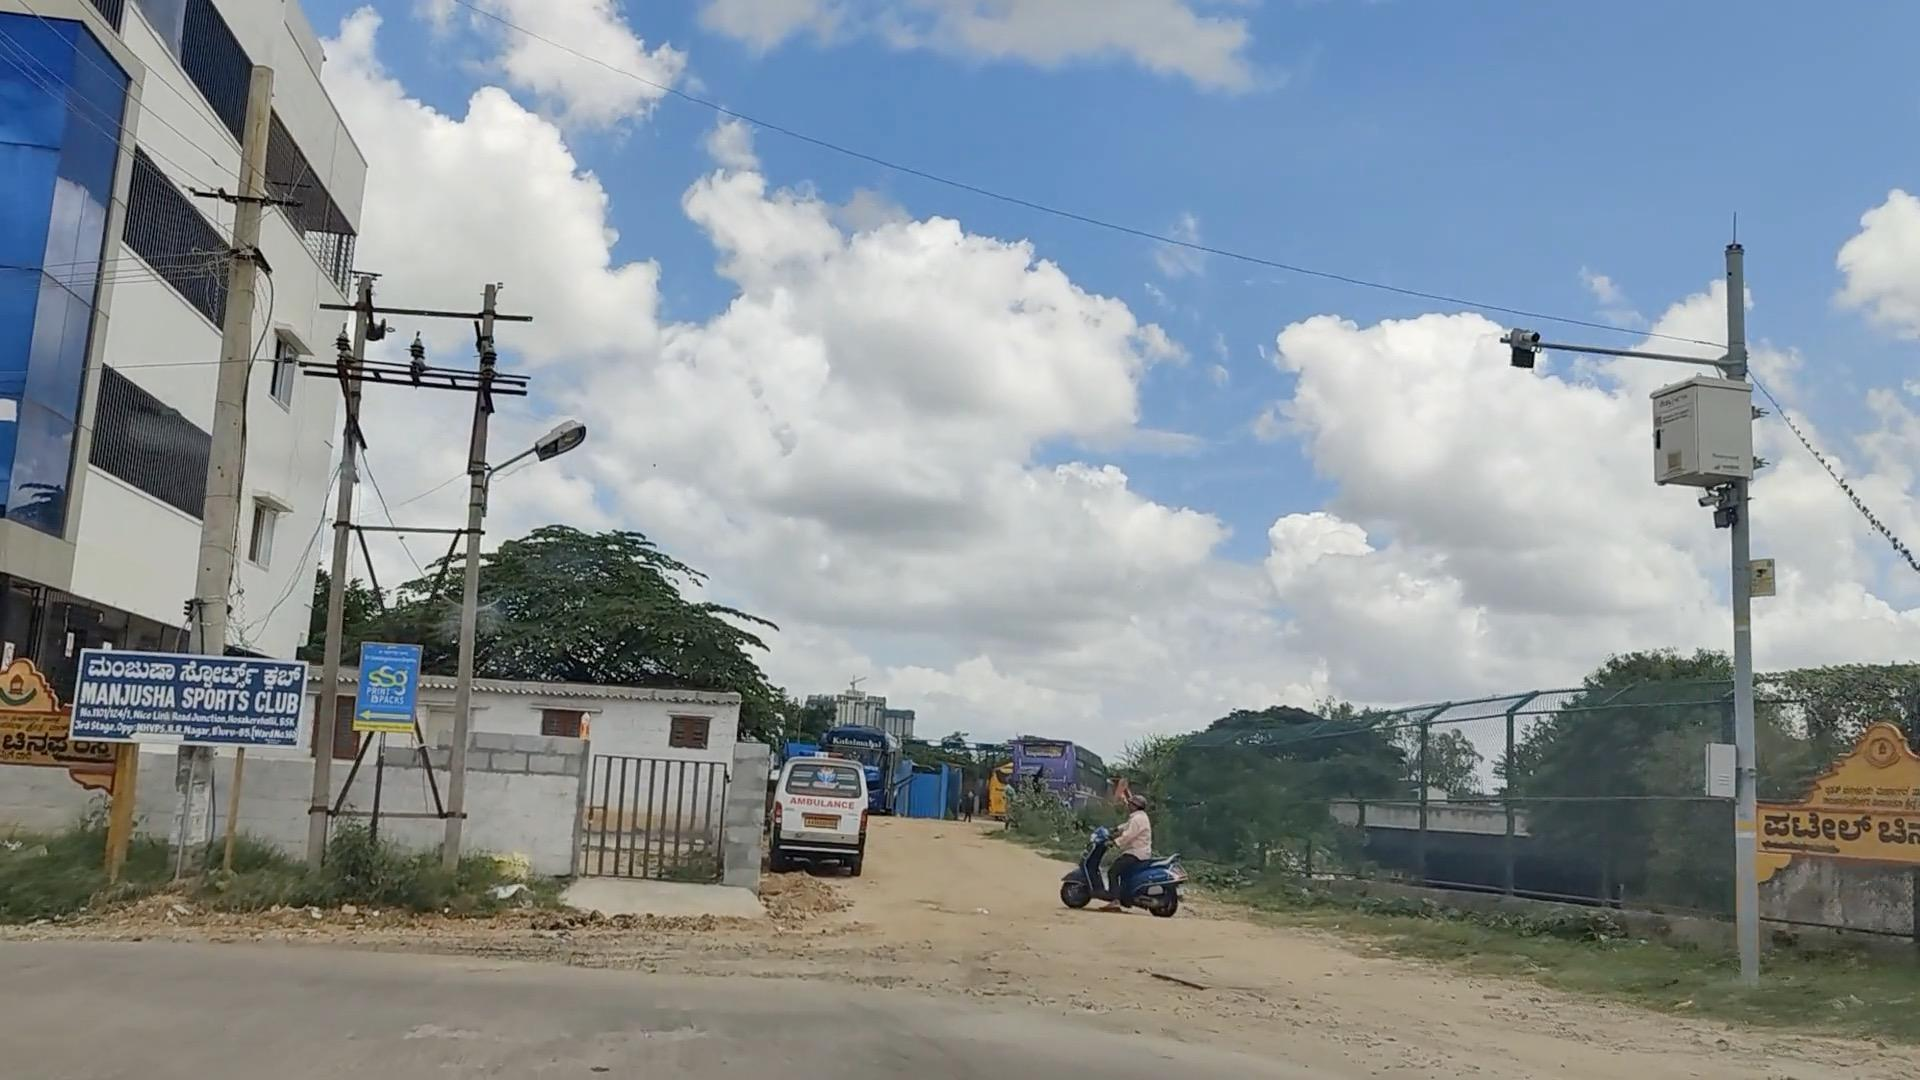LMV: (1085, 787, 1178, 902), (773, 756, 862, 873)
RoadDamages: (592, 1027, 715, 1080), (407, 1018, 500, 1072)
